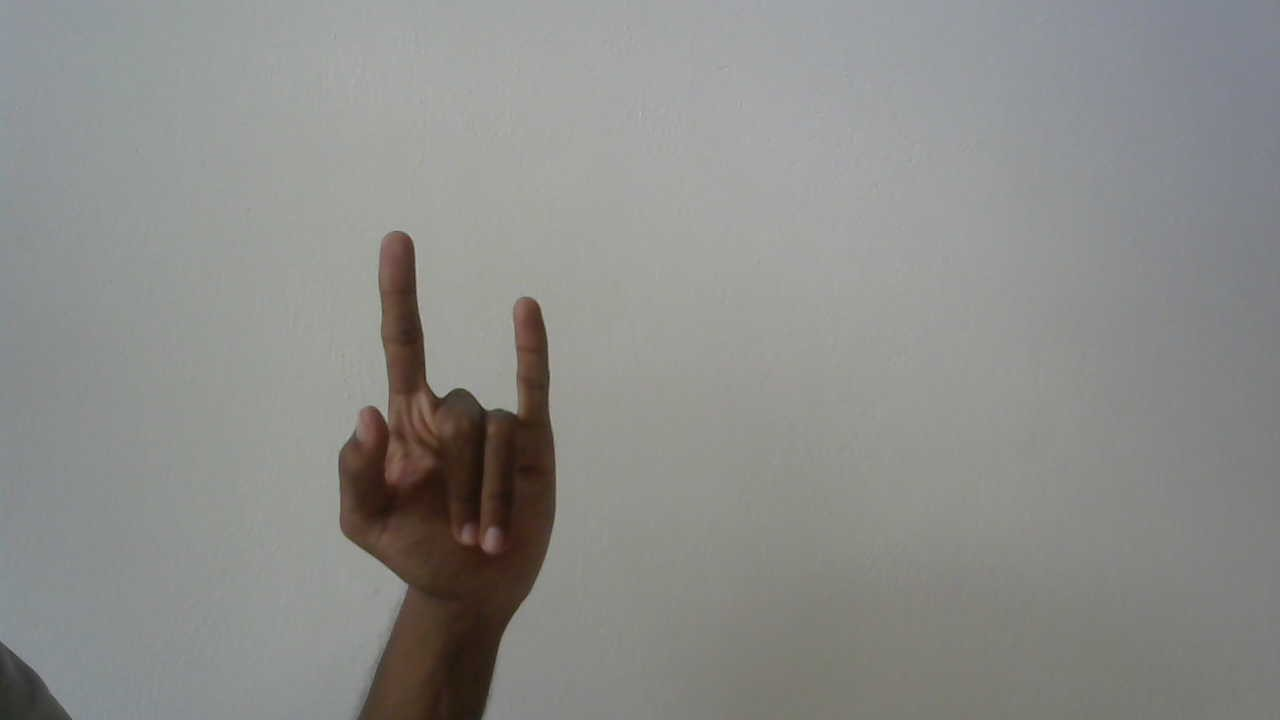iloveyou: (332, 227, 573, 624)
